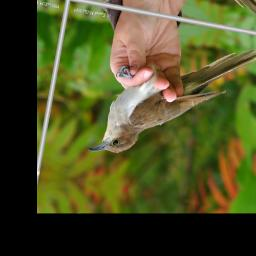Cuckoo: (87, 20, 256, 184)
